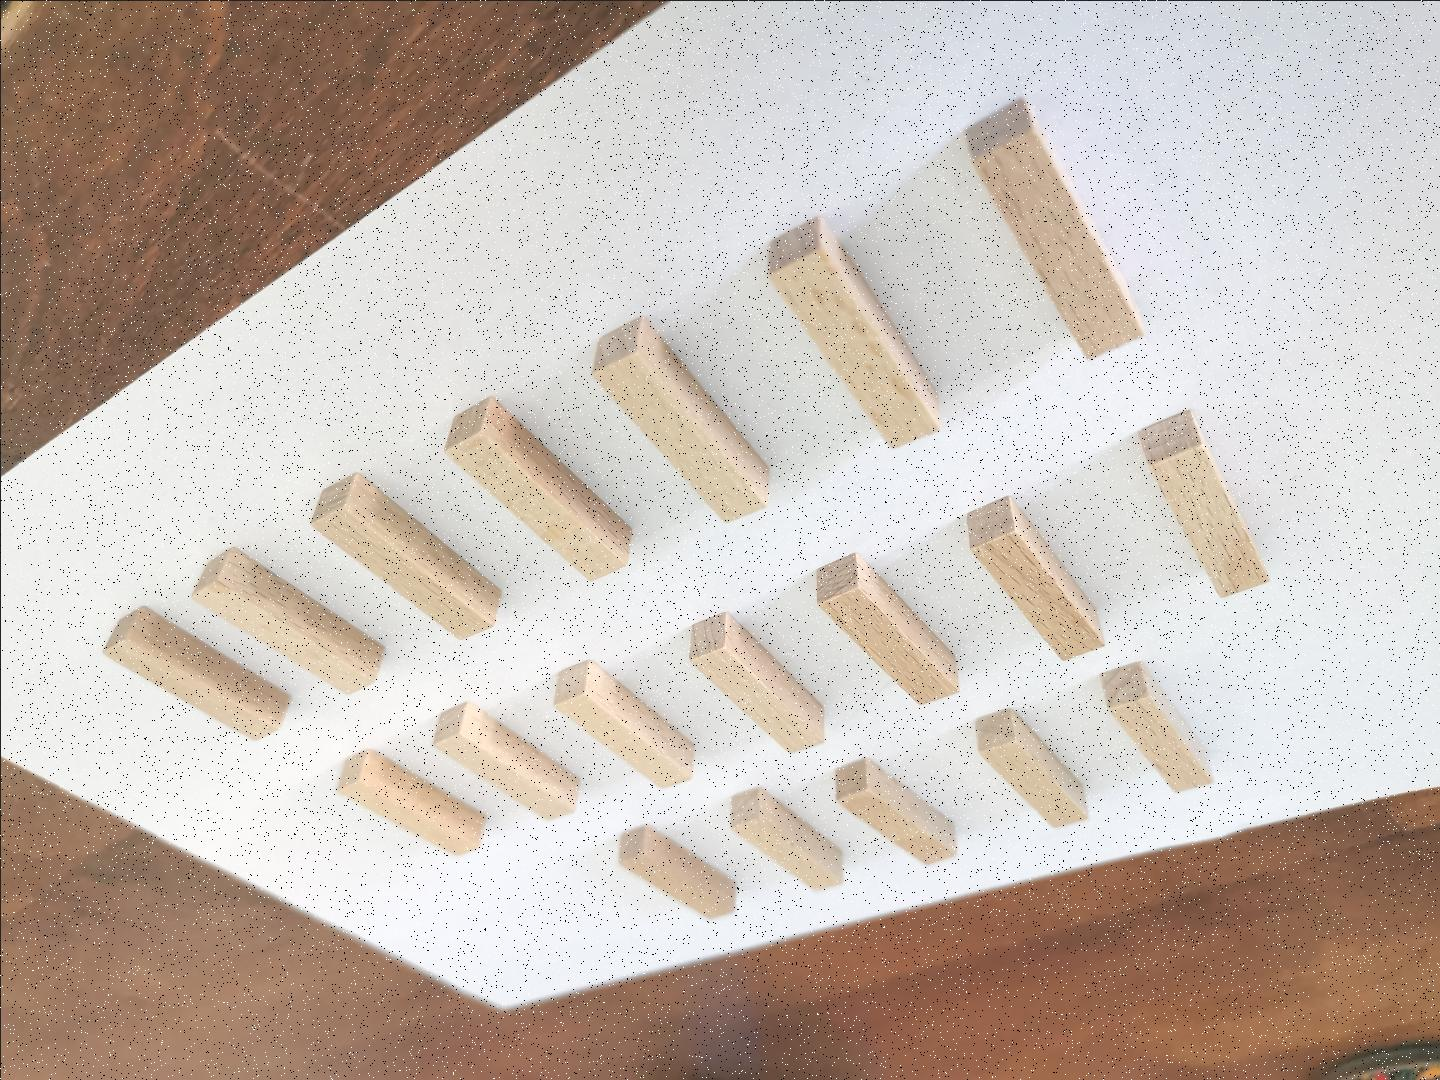jenga: (965, 99, 1142, 357), (768, 217, 939, 447), (591, 318, 768, 521), (444, 397, 630, 580), (310, 472, 501, 639), (192, 548, 382, 692), (1136, 411, 1269, 597), (104, 608, 289, 740), (967, 498, 1102, 658), (815, 554, 956, 703), (689, 613, 824, 751), (554, 661, 692, 787), (433, 700, 579, 818), (338, 751, 484, 855), (1100, 661, 1212, 791), (976, 709, 1085, 827), (836, 759, 956, 863), (728, 787, 844, 888), (619, 824, 734, 917)
